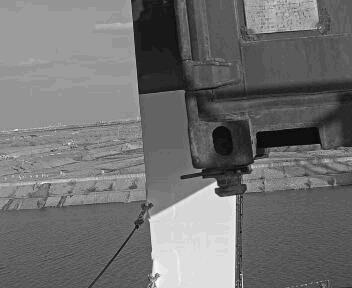twist_lock_1: (132, 165, 191, 213)
